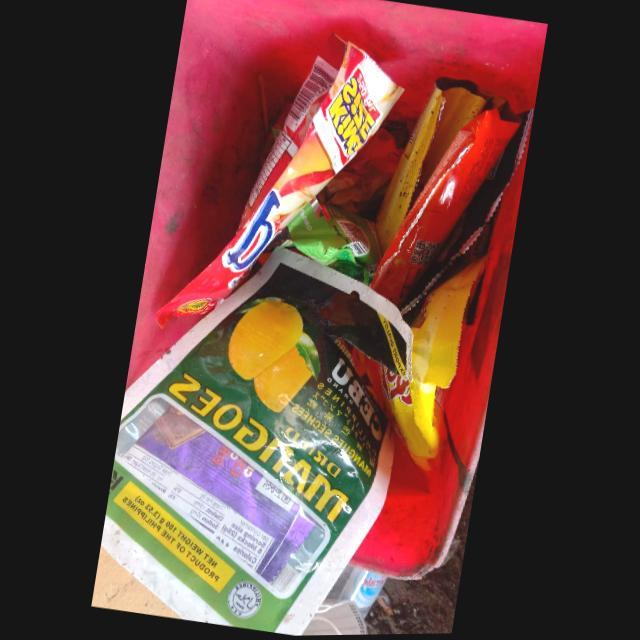wrapper: (101, 249, 415, 637), (158, 46, 404, 331), (371, 110, 533, 329), (377, 81, 496, 253), (388, 257, 488, 455), (284, 205, 374, 287)
